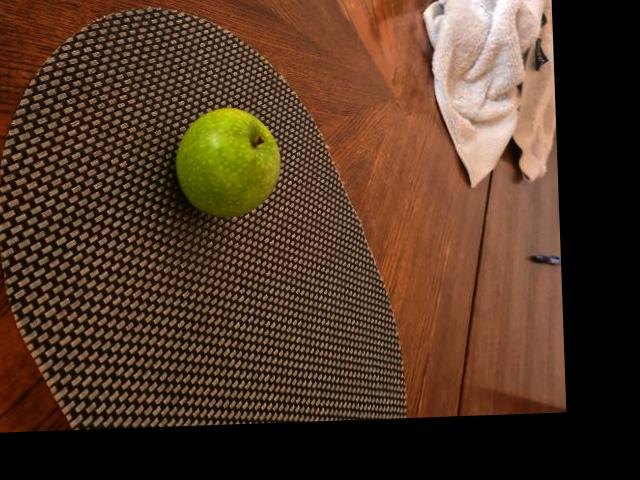apple: (173, 107, 281, 213)
